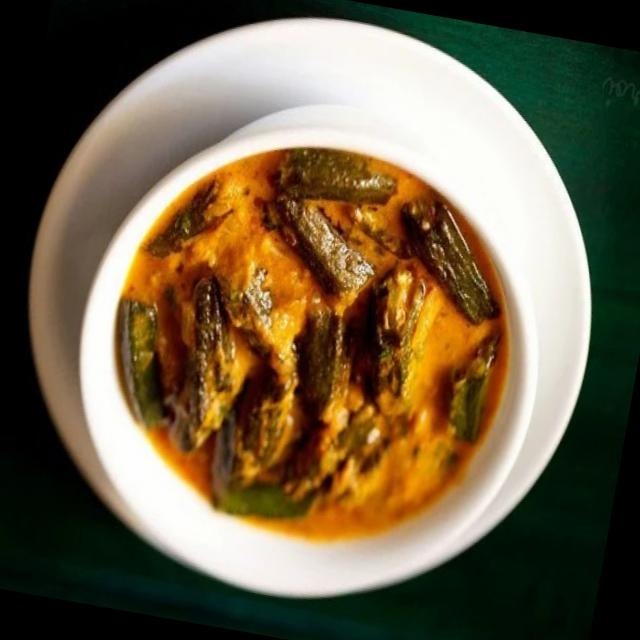BhindiMasala: (82, 114, 540, 569)
